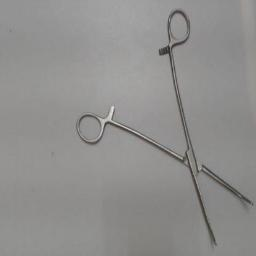Lahey Forceps: (74, 4, 254, 250)
